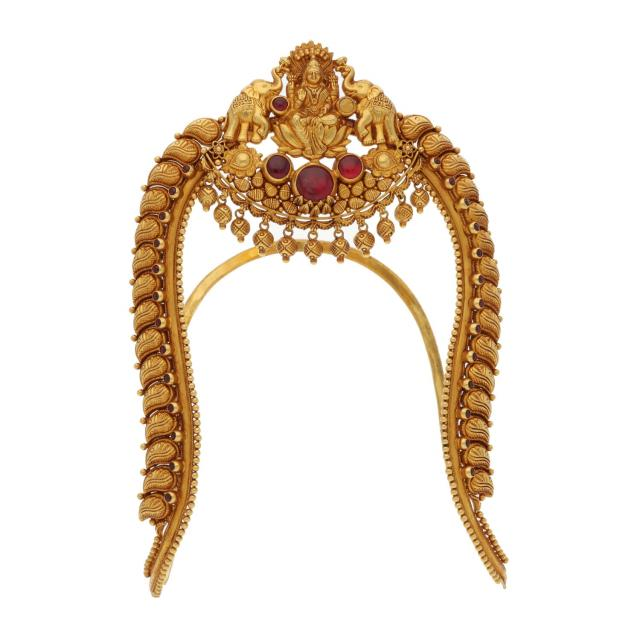missing gem: (339, 98, 354, 113)
